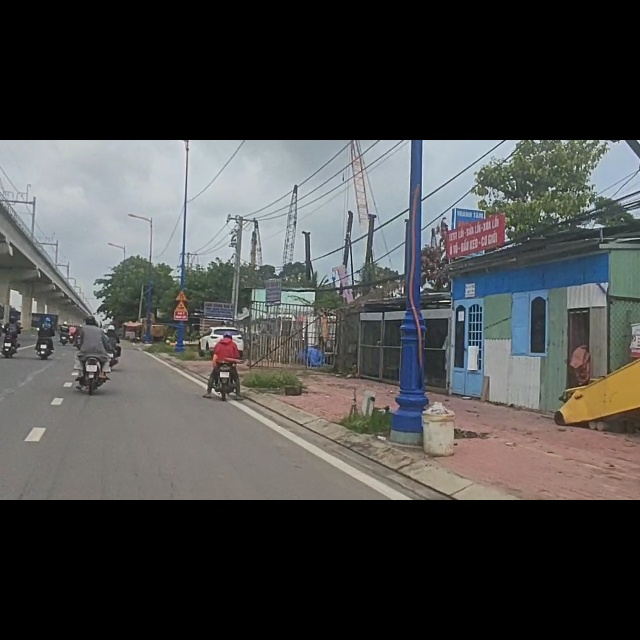bien_nguy_hiem: (175, 284, 189, 305), (175, 267, 188, 284)
